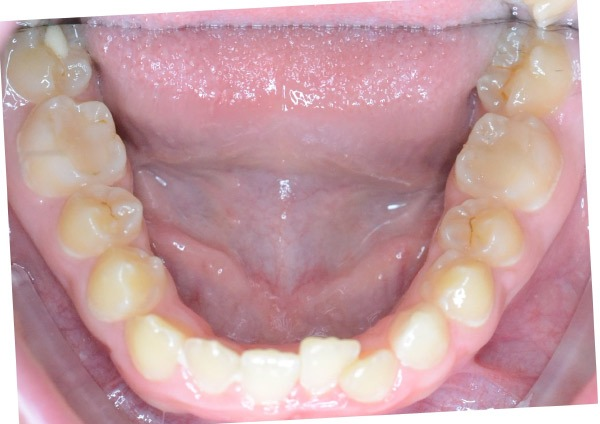LL1BC_healthy: (435, 259, 494, 327)
LL1M_healthy: (457, 114, 563, 207)
LL2BC_decay: (440, 199, 520, 265)
LL2M_decay: (489, 33, 568, 115)
LLCI_healthy: (301, 338, 359, 393)
LLC_healthy: (392, 306, 449, 368)
LLLI_healthy: (349, 353, 399, 401)
LR1BC_healthy: (89, 249, 165, 319)
LR1M_healthy: (25, 99, 125, 185)
LR2BC_decay: (67, 185, 141, 254)
LR2M_decay: (13, 31, 89, 95)
LRCI_healthy: (240, 349, 298, 407)
LRC_healthy: (127, 316, 183, 379)
LRLI_healthy: (184, 340, 240, 395)
